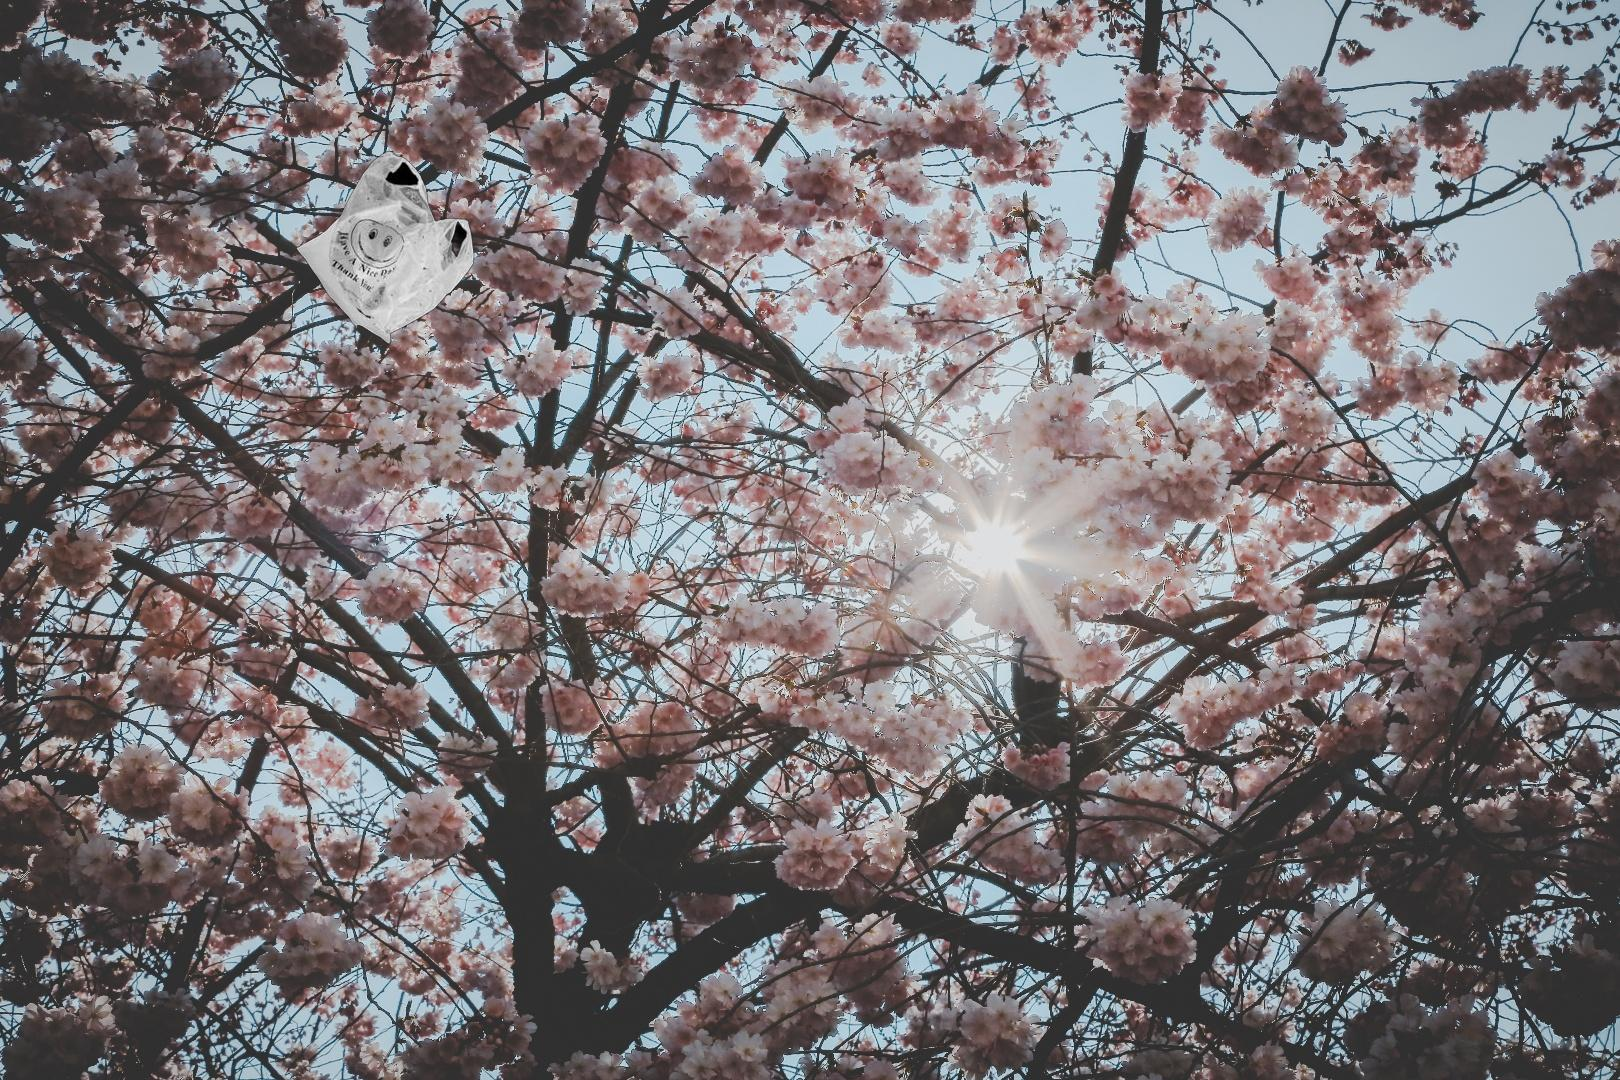plastic-bag: (295, 148, 476, 347)
